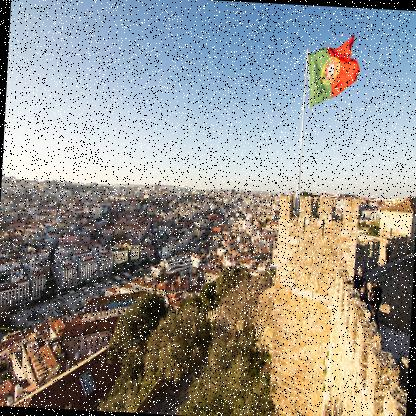pt: (307, 34, 364, 112)
